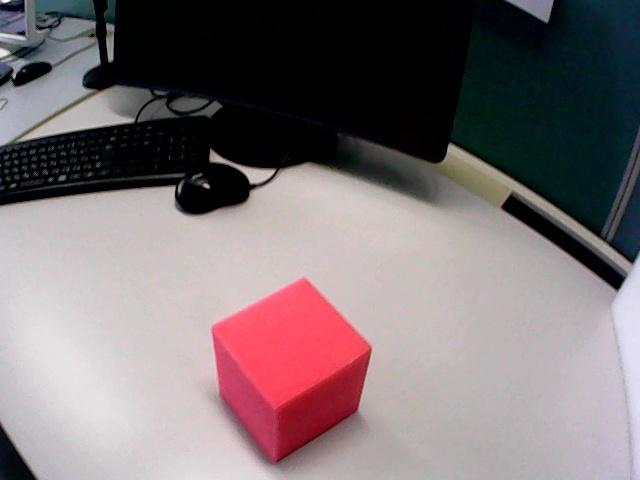red_block: (212, 279, 370, 461)
